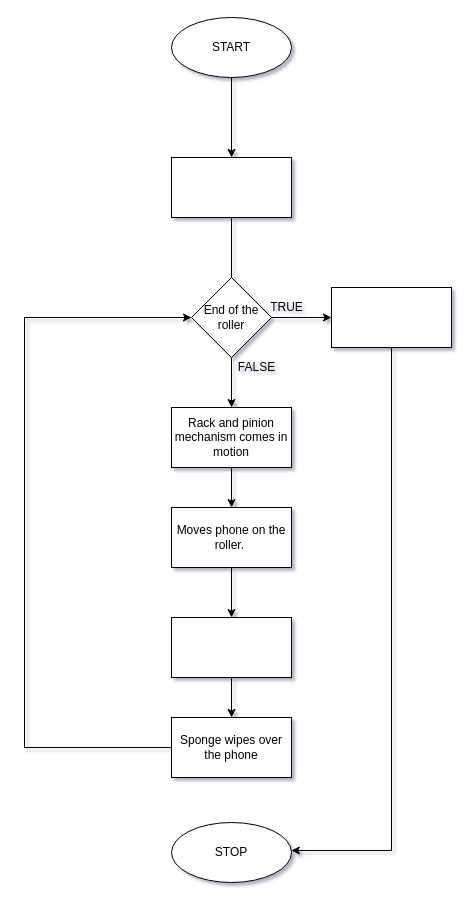
The diagram is 475 pixels wide and 906 high, and some of its shapes have lost their labels. Here are the shapes that lost their labels. From the top down, the box of each, then its label:
(170, 156, 292, 218): Push Button ON
(330, 286, 452, 348): Switch off
(170, 616, 292, 678): DC Motor starts
